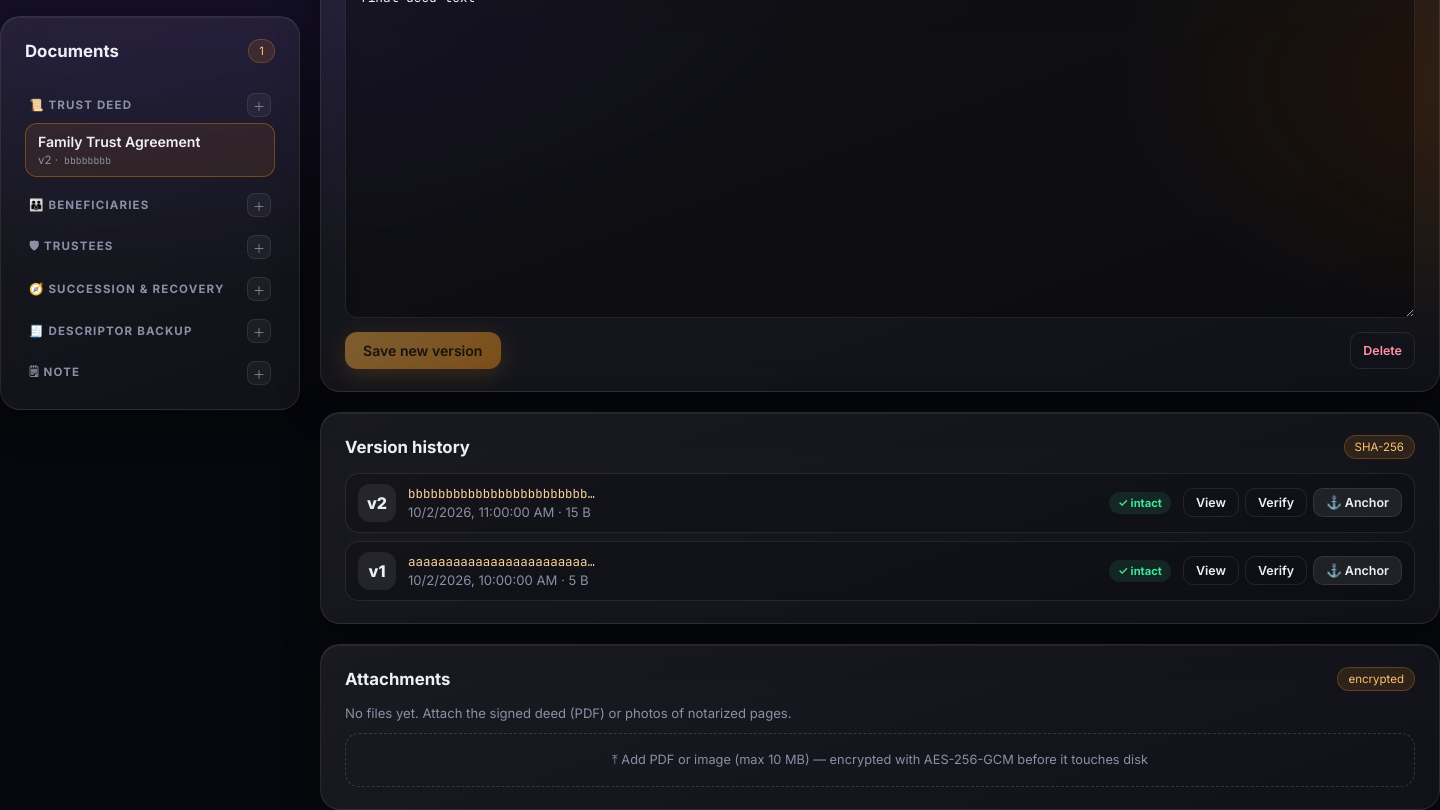
Test: Vault page › anchors a version and shows block height and txid
The width and height of the screenshot is (1440, 810).
(page scrolled)
Click the button with test id "anchor-v2" at (1358, 503), box top-left (1313, 488), bottom-right (1402, 517)
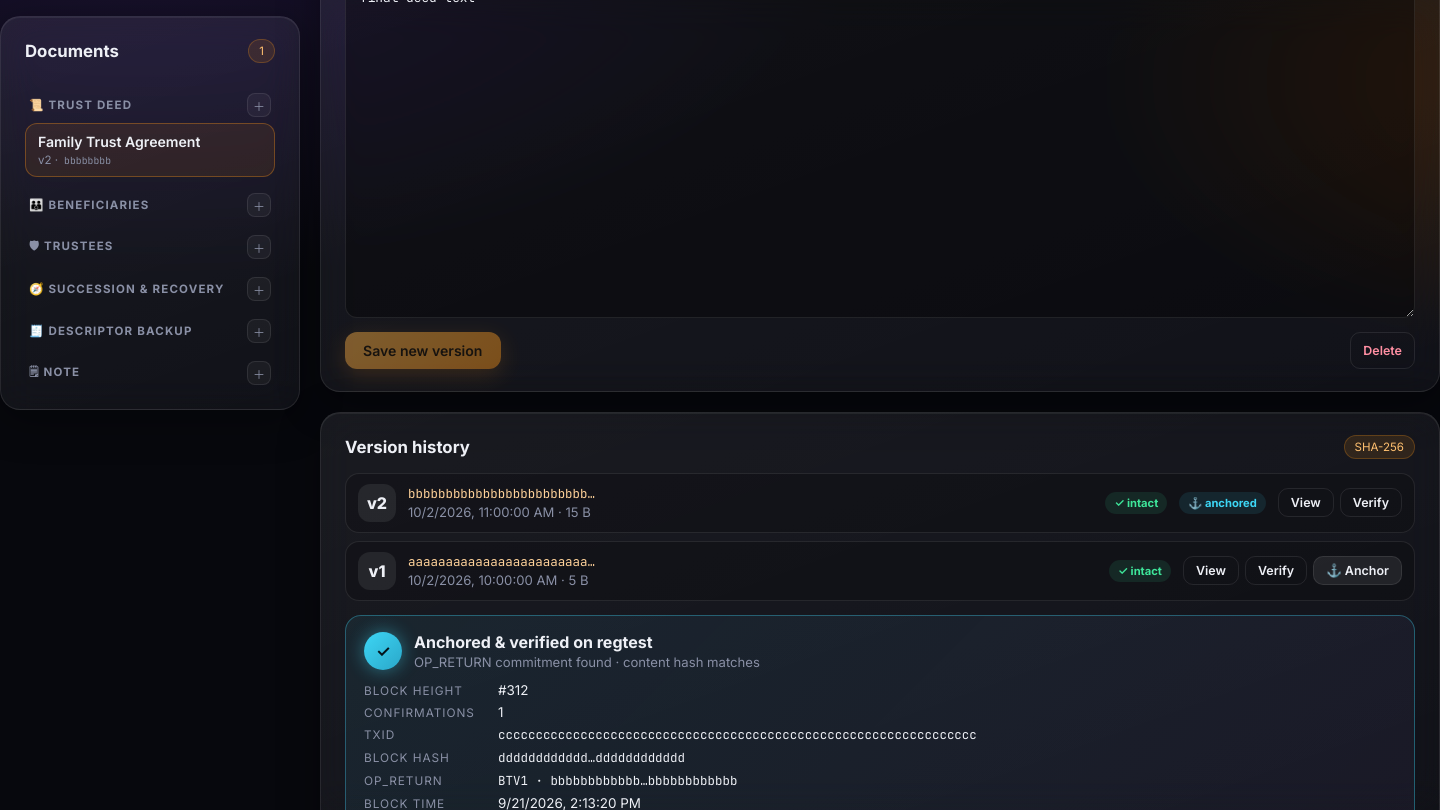
Now the element with test id "anchor-view" shows "Anchored & verified on regtest", box top-left (414, 632), bottom-right (652, 652)
Now the text with test id "anchor-height" reads "#312", box top-left (498, 682), bottom-right (528, 698)
Now the text "⚓ anchored" is shown, box top-left (1179, 492), bottom-right (1266, 514)
